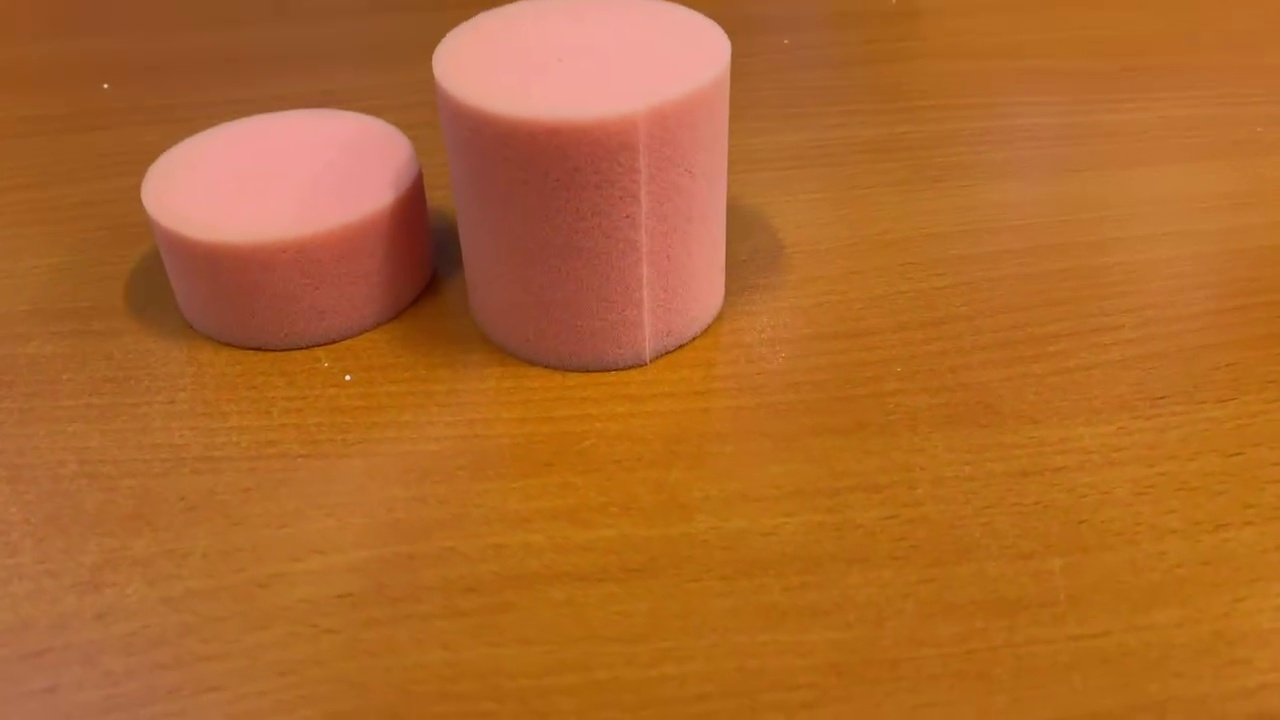Clyinder_short: (134, 96, 438, 356)
Cylinder: (425, 1, 733, 377)
